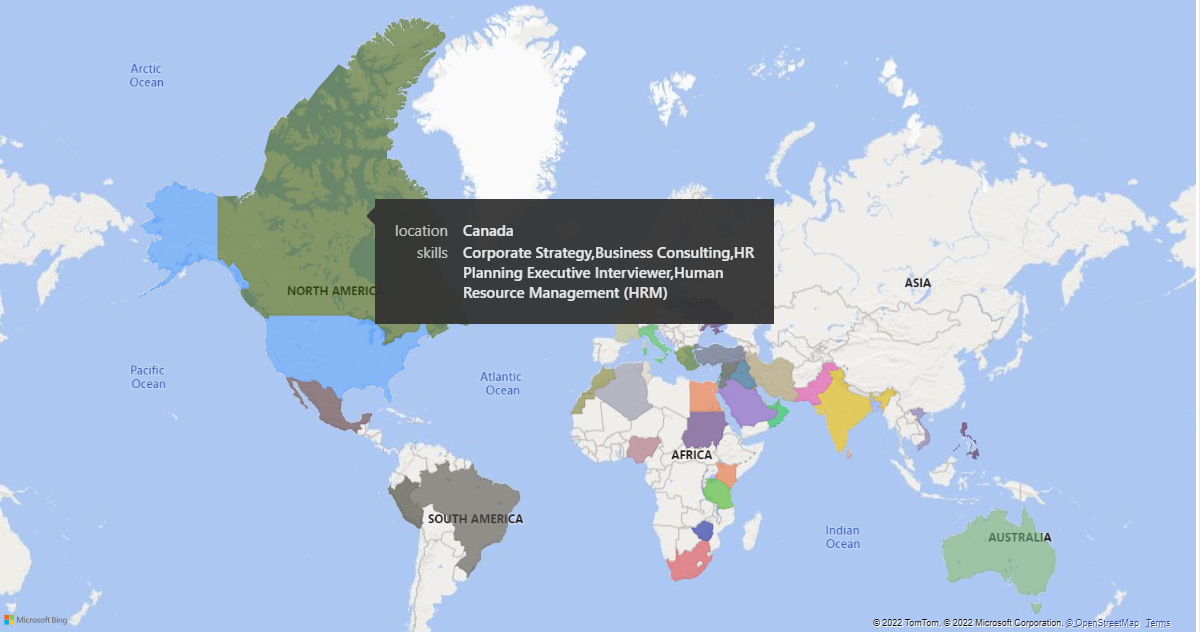

This screenshot's page, from the dashboard's own definition file:
{"tool":"powerbi","page":{"name":"Page 2","canvas":[1280,720],"ordinal":1},"visuals":[{"type":"filledMap","fields":{"Category":["MiddleEastFreelancers_cleaning.location"],"Series":["MiddleEastFreelancers_cleaning.skills"]},"box":[9.8,0,1206.5,695.6],"z":0}]}

Visuals, with their boxes on the page's 1280x720 design canvas (x1, y1, x2, y2). These are canvas units, not pixel positions in the 1202x632 screenshot, which may show the page scaled, cropped or inside an application window:
filledMap - MiddleEastFreelancers_cleaning.location x MiddleEastFreelancers_cleaning.skills: (left=10, top=0, right=1216, bottom=696)
